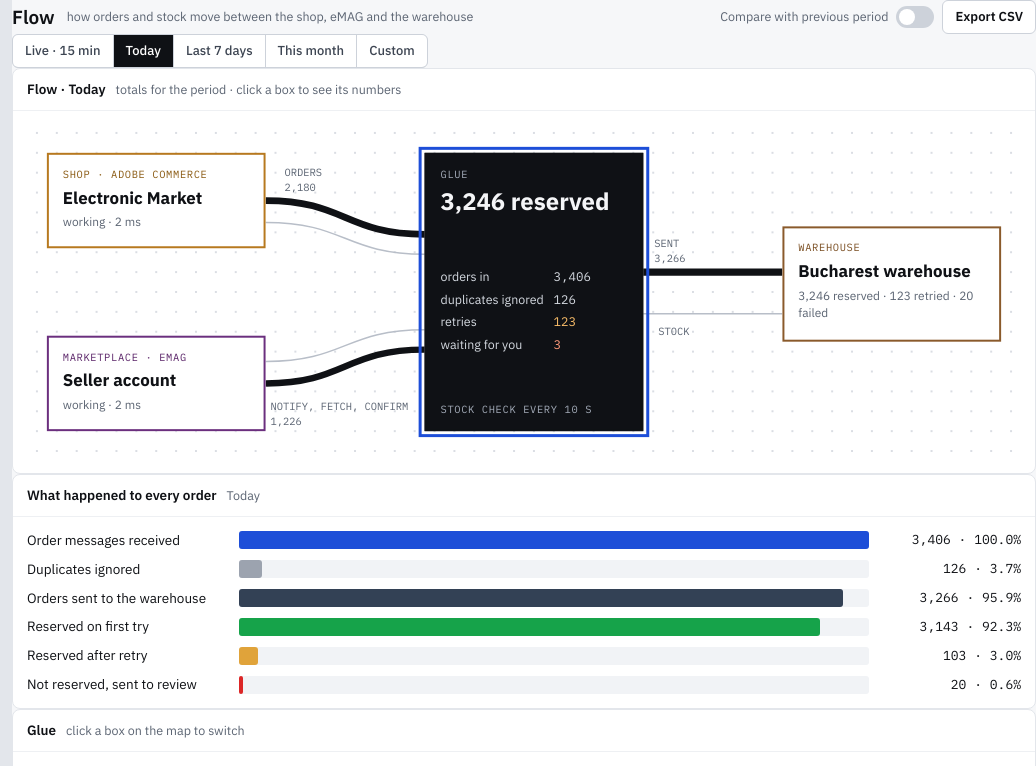
Test case: clicking a box on the map shows that part and the export follows the range
The image size is (1036, 766).
Expected: the heading "Glue" is shown, [27, 721, 56, 740]
Click the button "Bucharest warehouse" at [892, 284], box [782, 226, 1001, 342]
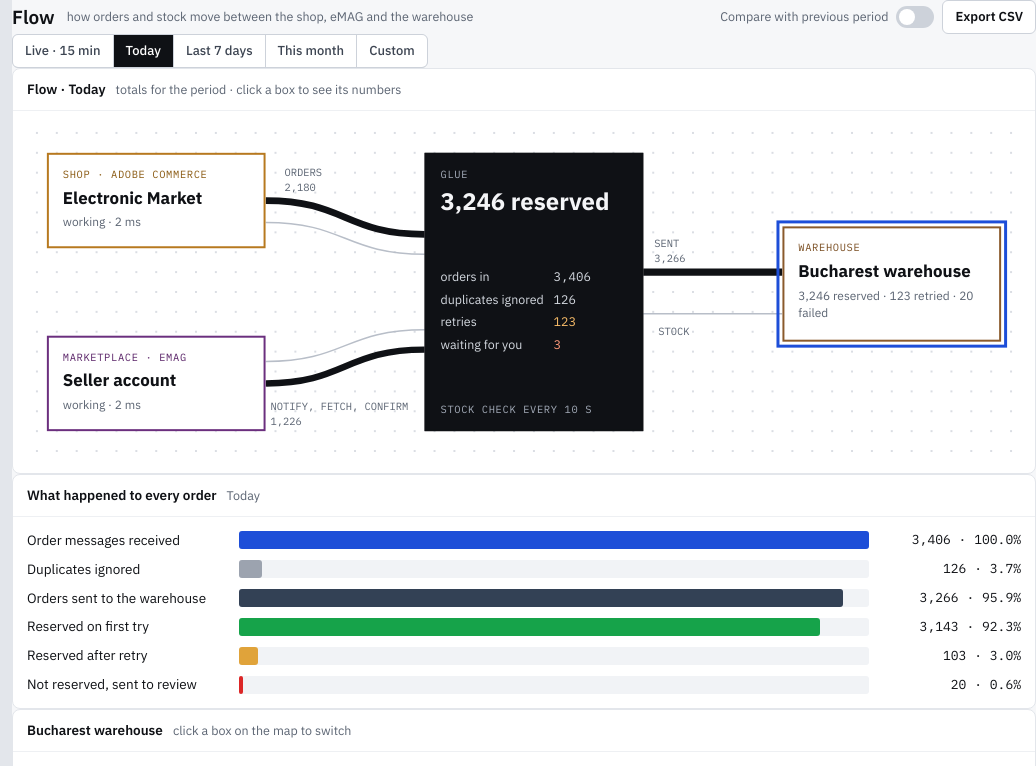
Expected: the heading "Bucharest warehouse" is shown, [27, 721, 163, 740]
